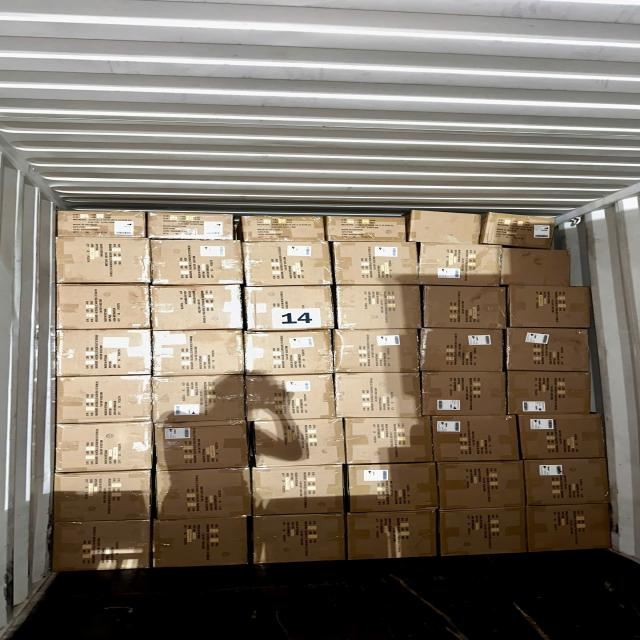Carton: (54, 521, 154, 573), (55, 471, 155, 522), (154, 469, 252, 519), (57, 421, 157, 470), (54, 236, 152, 286), (154, 521, 252, 570), (148, 238, 244, 288), (252, 466, 346, 516), (252, 516, 345, 566), (59, 329, 155, 377), (58, 378, 156, 425), (239, 240, 333, 289), (152, 377, 246, 425), (157, 422, 253, 469), (346, 464, 436, 514), (440, 510, 530, 560), (58, 282, 153, 329), (346, 514, 437, 563), (438, 462, 528, 511), (245, 377, 338, 423), (154, 330, 247, 376), (253, 420, 346, 466), (154, 285, 246, 331), (528, 507, 614, 556), (246, 285, 337, 331), (344, 417, 435, 463), (332, 240, 419, 288), (431, 414, 517, 462), (245, 332, 338, 376), (525, 461, 611, 508), (334, 375, 422, 420), (508, 369, 596, 414), (416, 242, 502, 288), (336, 283, 421, 329), (420, 370, 508, 414), (335, 329, 420, 374), (419, 328, 505, 372), (522, 415, 608, 459), (508, 328, 594, 372), (421, 285, 506, 328), (508, 285, 594, 327), (500, 246, 573, 289), (146, 209, 238, 240), (56, 209, 147, 239), (410, 208, 478, 244), (489, 211, 555, 248), (324, 215, 408, 243), (239, 214, 326, 241)
